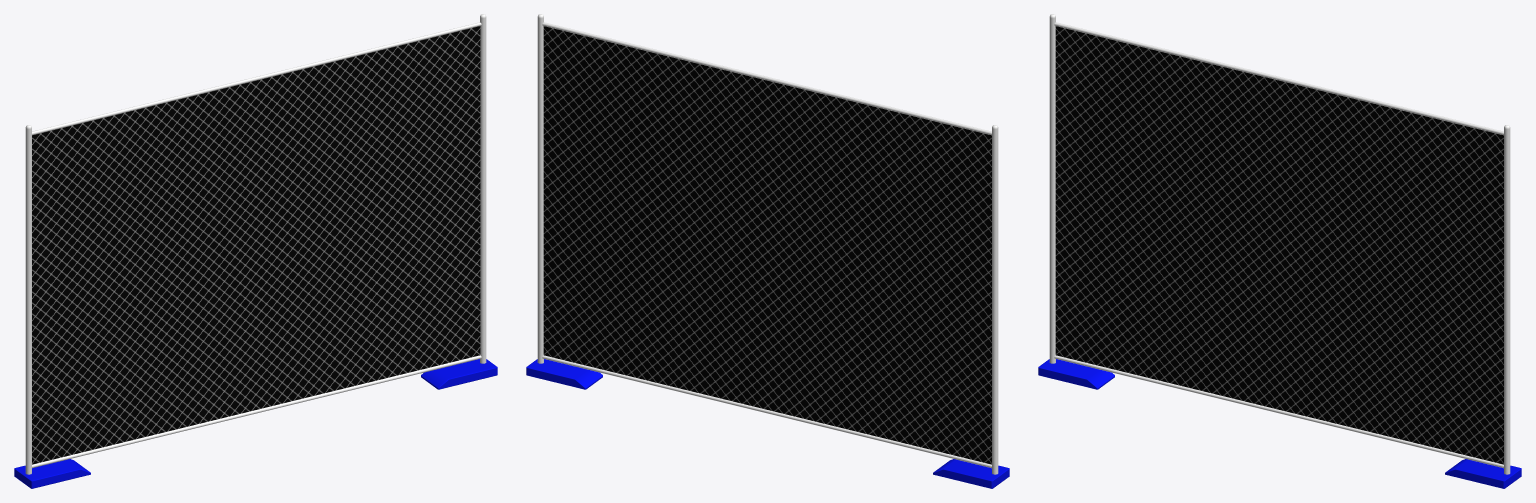
The model's file is MetalFence.fbx.
The picture shows the model from 3 angles, left to right: view 1: azimuth 30°, elevation 25°; view 2: azimuth 150°, elevation 25°; view 3: azimuth 330°, elevation 25°; orthographic projection.
Visible parts, largest first — view 1: MetalFence; view 2: MetalFence; view 3: MetalFence.
Part boxes in pixels (box(x1,y1,x2,y2)): MetalFence: box(14, 14, 497, 488); MetalFence: box(526, 14, 1009, 488); MetalFence: box(1038, 14, 1521, 488).
Size of the model in its own units: 304 by 222 by 20.
Materials: 2 (1 with a texture image).
